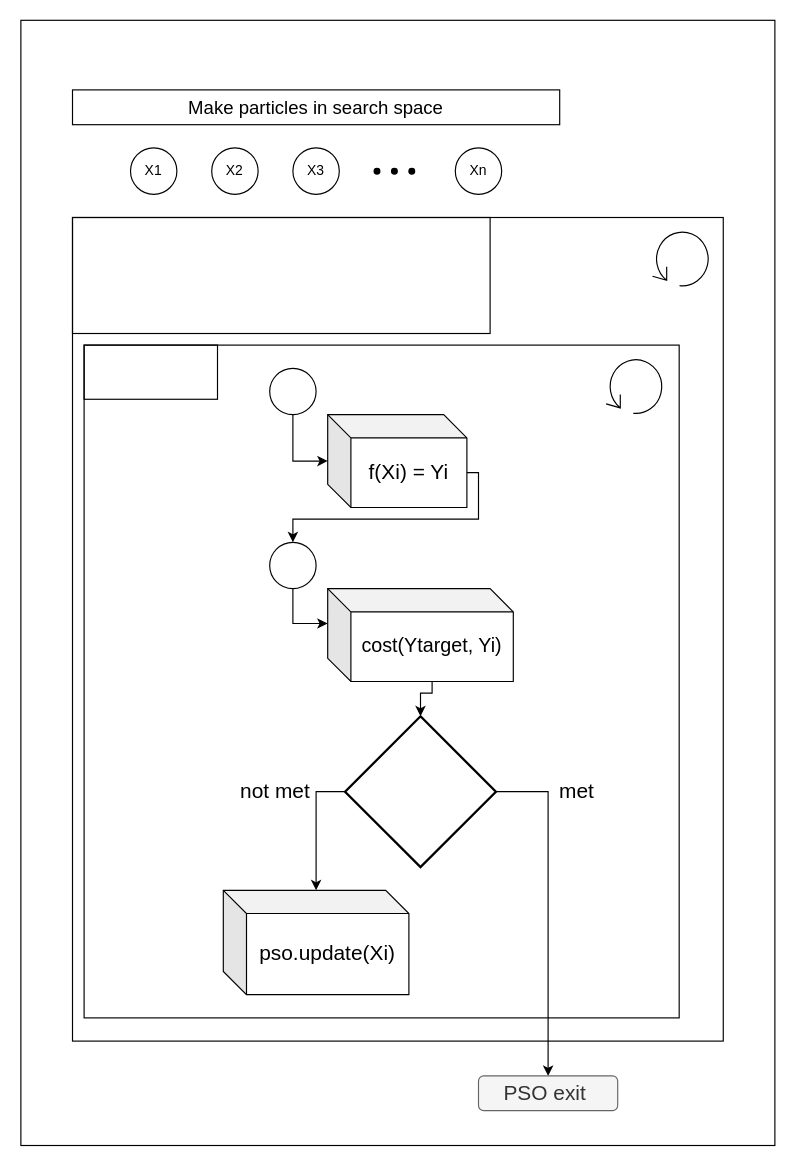
Image size: 795x1166. Some labels were removed from this diagram. The centre of each missing label's shape, as x and y in pixels:
"check tolerance & max iter" belongs at [419,791].
"sf for each Xi" belongs at [150,371].
"while (tolerance condition not met) & (step_number <= max iterations)" belongs at [280,275].
"Xi" belongs at [292,391].
"Yi" belongs at [292,565].
